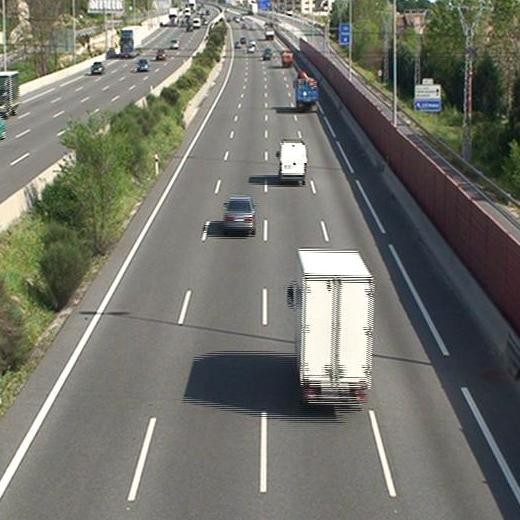car: (224, 197, 254, 234)
small-truck: (293, 248, 371, 407), (294, 76, 318, 114), (282, 50, 293, 69)
van: (277, 142, 306, 183)
